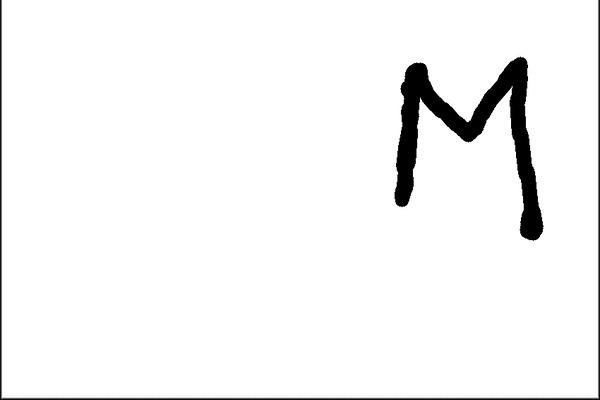M: (396, 54, 545, 242)
